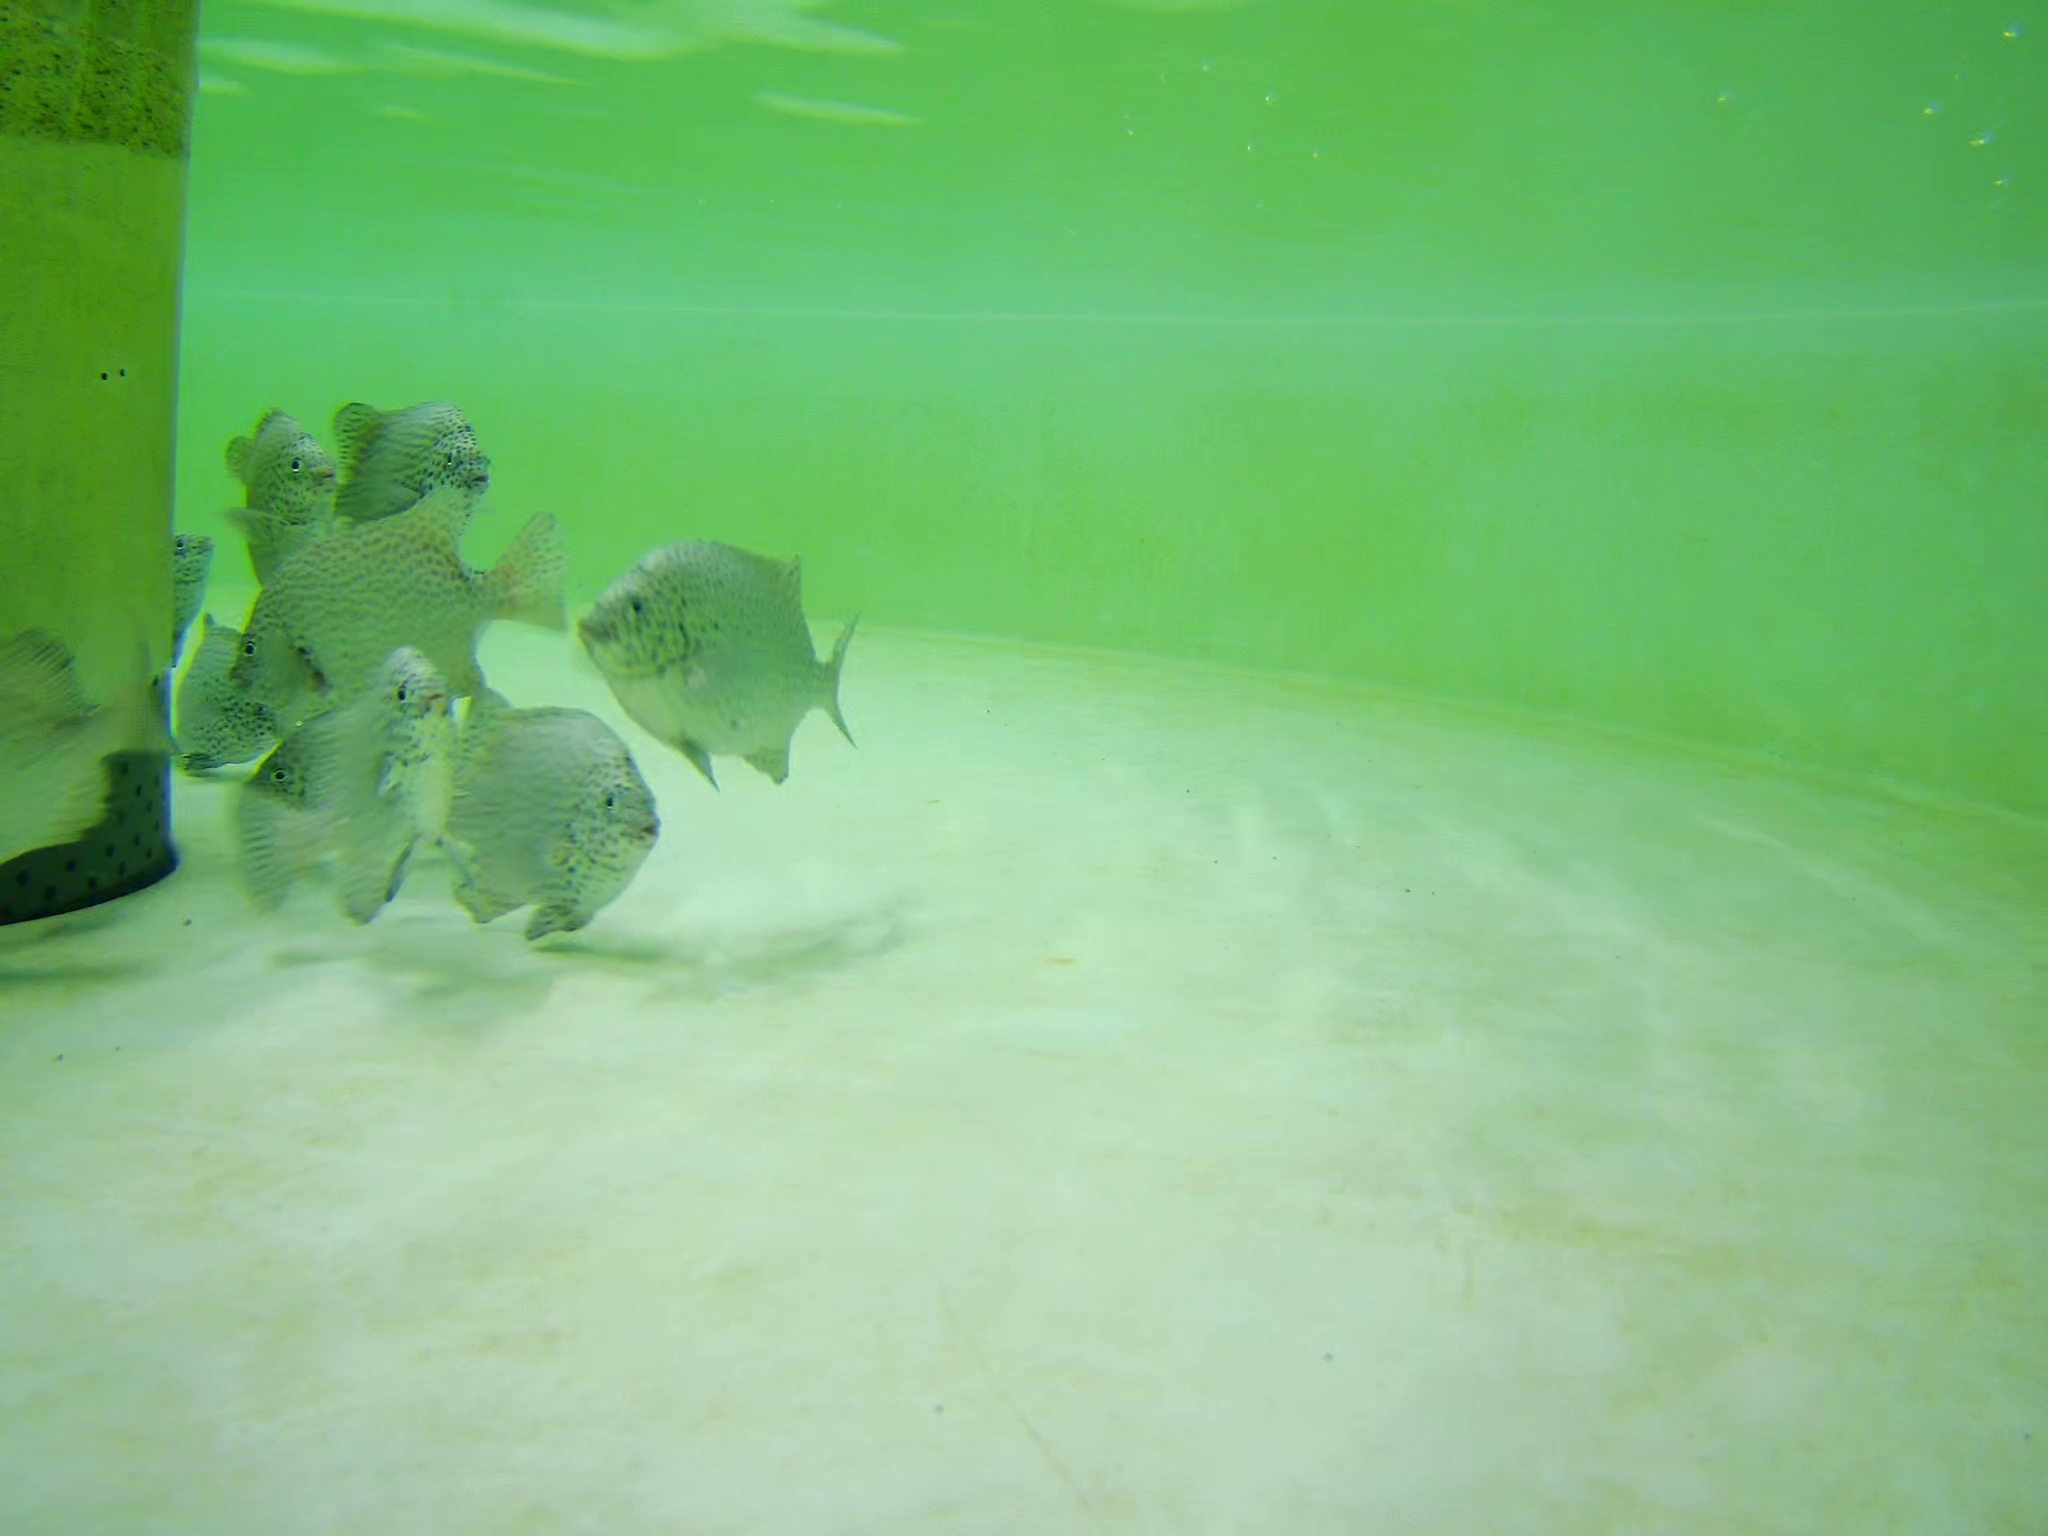fish: (235, 481, 571, 739), (572, 534, 871, 789), (429, 687, 664, 960), (3, 608, 176, 839), (232, 720, 414, 933), (303, 645, 447, 841), (329, 392, 498, 542), (224, 405, 334, 603), (181, 631, 273, 771), (171, 526, 208, 655)
